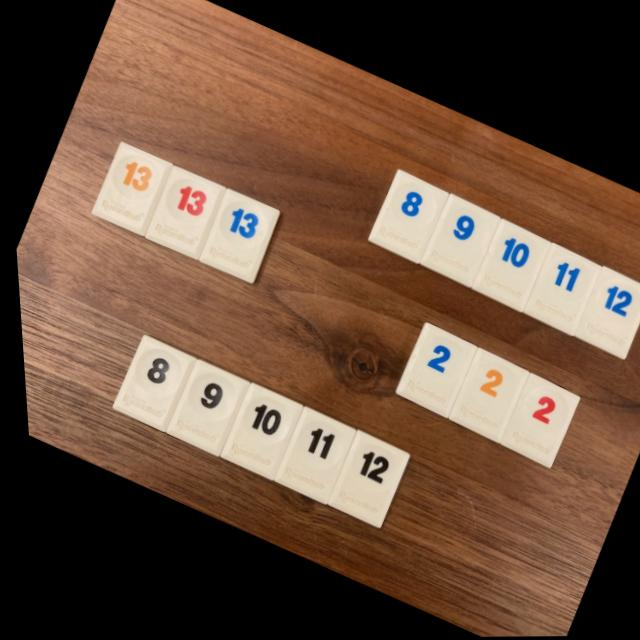black_10: (214, 384, 297, 481)
black_11: (267, 408, 350, 505)
black_12: (321, 431, 403, 529)
black_8: (107, 336, 191, 432)
black_9: (160, 360, 244, 457)
blue_10: (468, 221, 547, 313)
blue_11: (519, 244, 597, 337)
blue_12: (570, 268, 640, 360)
blue_13: (195, 189, 277, 284)
blue_2: (390, 324, 473, 419)
blue_8: (365, 171, 446, 264)
blue_9: (417, 194, 497, 287)
orange_13: (89, 143, 171, 236)
orange_2: (442, 349, 523, 444)
red_13: (142, 166, 223, 260)
red_2: (494, 375, 574, 469)
